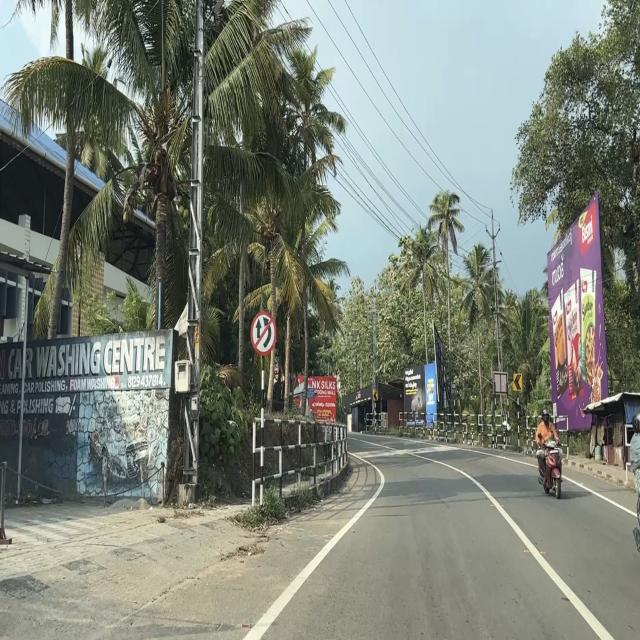OVERTAKING_PROHIBITED: (250, 311, 277, 356)
TURN_LEFT: (513, 373, 522, 391), (373, 390, 378, 400)
